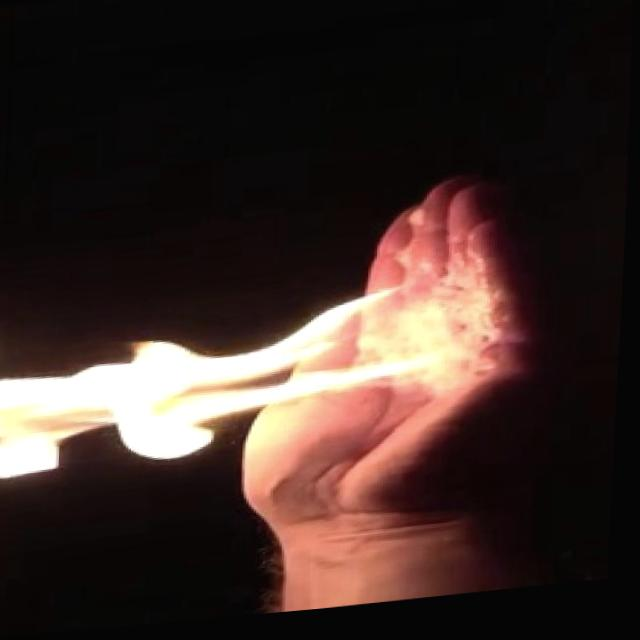helmet: (0, 274, 470, 503)
